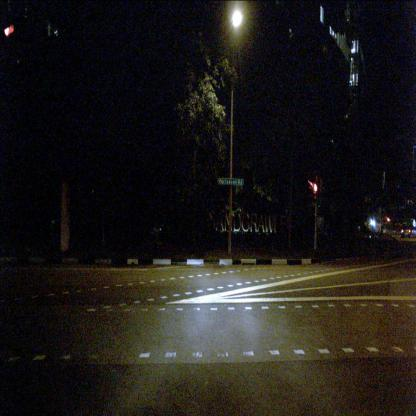vehicle-car: (401, 224, 410, 238), (408, 219, 416, 228)
